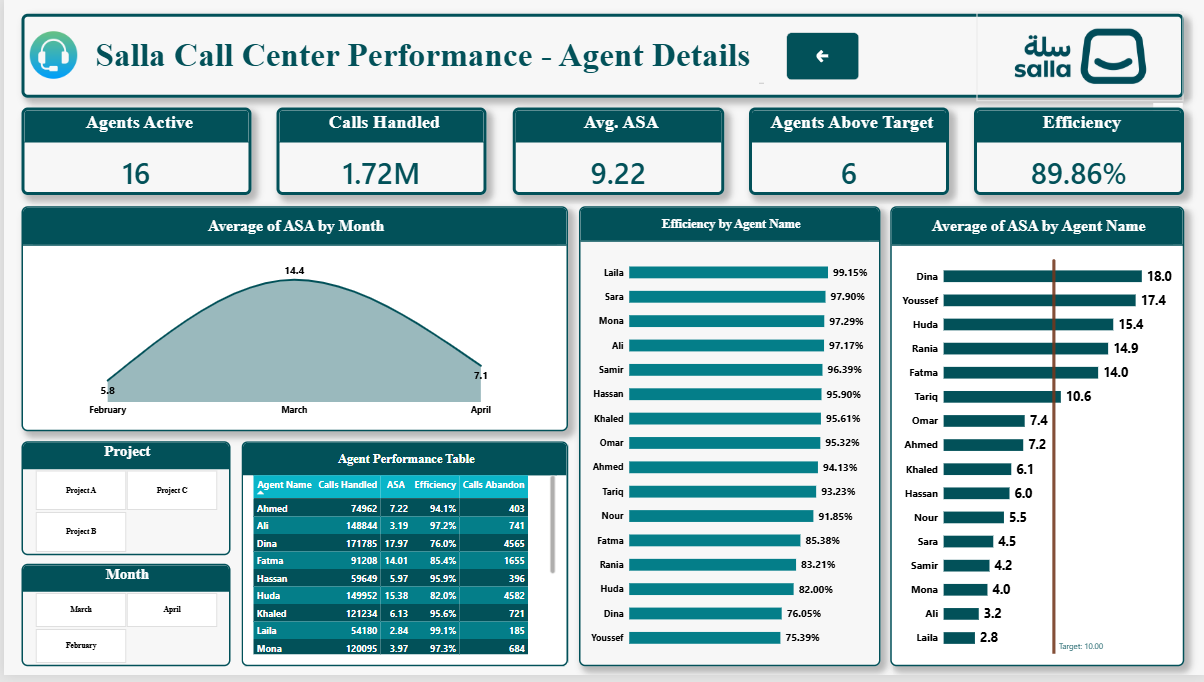

The dashboard page shown, as its layout file describes it:
{"tool":"powerbi","page":{"name":"Agent Analysis","canvas":[1920,1080],"ordinal":2},"visuals":[{"type":"shape","box":[28,22,1860,134],"z":0},{"type":"cardVisual","title":"Agents Above Target","fields":{"Data":["_Measure.Agents Above Target"]},"box":[1191.5,172,320,140],"z":1000},{"type":"cardVisual","title":"Avg. ASA","fields":{"Data":["Avg(Sallah.ASA)"]},"box":[813,172,338,140],"z":2000},{"type":"textbox","title":"Salla Call Center Performance - Agent Details","box":[124,58,1092,76],"z":3000},{"type":"image","box":[34.4,50,90,76],"z":4000},{"type":"image","box":[1556,18,332,144],"z":5000},{"type":"cardVisual","title":"Agents Active","fields":{"Data":["Count(Sallah.Agent Name)"]},"box":[28,172,368,140],"z":6000},{"type":"cardVisual","title":"Efficiency","fields":{"Data":["_Measure.Efficiency"]},"box":[1552,172,336,140],"z":7000},{"type":"clusteredBarChart","title":"Efficiency by Agent Name","fields":{"Category":["Sallah.Agent Name"],"Y":["_Measure.Efficiency"]},"box":[920,330,482,736],"z":8000},{"type":"cardVisual","title":"Calls Handled","fields":{"Data":["Sum(Sallah.Calls Handled)"]},"box":[436.5,172,336,140],"z":9000},{"type":"clusteredBarChart","fields":{"Category":["Sallah.Agent Name"],"Y":["Avg(Sallah.ASA)"]},"box":[1418,330,470,736],"z":10000},{"type":"areaChart","fields":{"Category":["Sallah.Date.Variation.Date Hierarchy.Month","Sallah.Day Name"],"Y":["Avg(Sallah.ASA)"]},"box":[28,330,874,360],"z":11000},{"type":"tableEx","title":"Agent Performance Table ","fields":{"Values":["Sallah.Agent Name","Sum(Sallah.Calls Handled)","Avg(Sallah.ASA)","_Measure.Efficiency","Sum(Sallah.Calls Abandon)"]},"box":[380,706,522,360],"z":12000},{"type":"slicer","title":"Month","fields":{"Values":["Sallah.Month Name"]},"box":[28,902,334,164],"z":13000},{"type":"slicer","title":"Project","fields":{"Values":["Sallah.Project"]},"box":[28,706,334,182],"z":14000},{"type":"actionButton","box":[1252,52,116,76],"z":15000}]}

Visuals, with their boxes in screenshot pixels (x1, y1, x2, y2), scaled from the page's 1920x1080 canvas onto the 1204x682 screenshot:
shape: <bbox>18, 14, 1184, 99</bbox>
"Agents Above Target" cardVisual: <bbox>747, 109, 948, 197</bbox>
"Avg. ASA" cardVisual: <bbox>510, 109, 722, 197</bbox>
"Salla Call Center Performance - Agent Details" textbox: <bbox>78, 37, 763, 85</bbox>
image: <bbox>22, 32, 78, 80</bbox>
image: <bbox>976, 11, 1184, 102</bbox>
"Agents Active" cardVisual: <bbox>18, 109, 248, 197</bbox>
"Efficiency" cardVisual: <bbox>973, 109, 1184, 197</bbox>
"Efficiency by Agent Name" clusteredBarChart: <bbox>577, 208, 879, 673</bbox>
"Calls Handled" cardVisual: <bbox>274, 109, 484, 197</bbox>
clusteredBarChart - Sallah.Agent Name x Avg(Sallah.ASA): <bbox>889, 208, 1184, 673</bbox>
areaChart - Sallah.Date.Variation.Date Hierarchy.Month x Sallah.Day Name: <bbox>18, 208, 566, 436</bbox>
"Agent Performance Table " tableEx: <bbox>238, 446, 566, 673</bbox>
"Month" slicer: <bbox>18, 570, 227, 673</bbox>
"Project" slicer: <bbox>18, 446, 227, 561</bbox>
actionButton: <bbox>785, 33, 858, 81</bbox>
